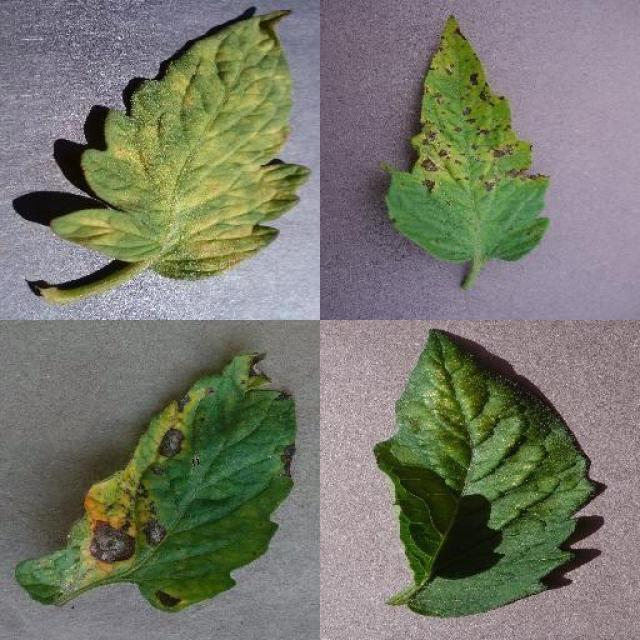Early Blight: (16, 348, 300, 612)
Septoria: (384, 12, 550, 264)
